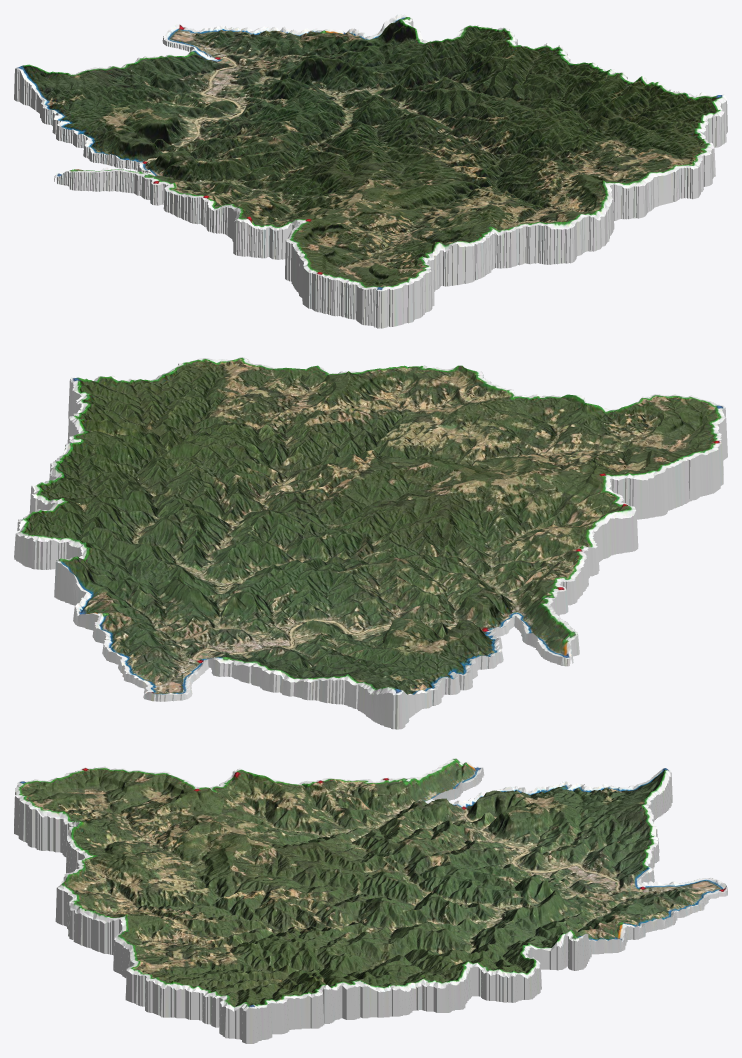
3 views of the same model, one above another, from view 1: azimuth 30°, elevation 25°; view 2: azimuth 150°, elevation 25°; view 3: azimuth 270°, elevation 25° (orthographic). The views are drawn at different scales.
Size of the model in its own units: 1 by 0.0707 by 1.11.
1 material, 1 textured.
